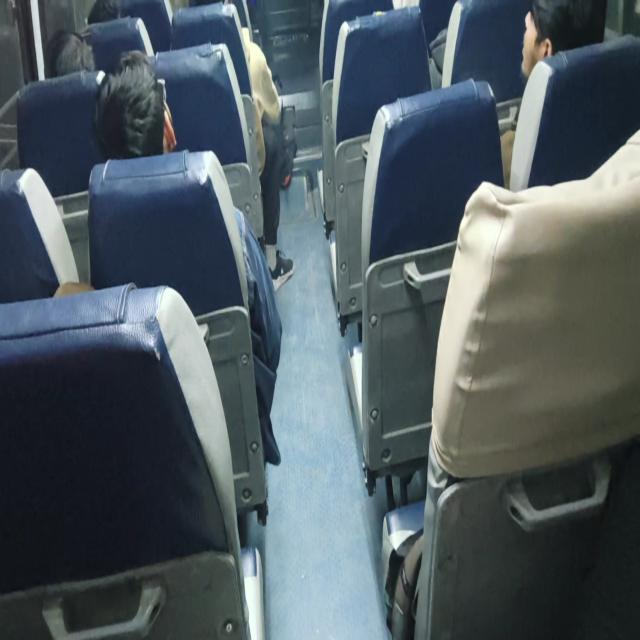person: (103, 61, 189, 188), (519, 0, 607, 100), (42, 30, 97, 96)
